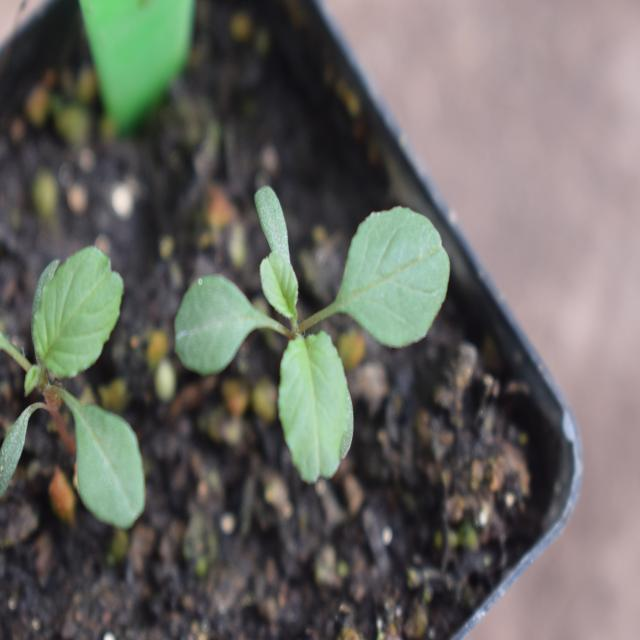pigweed: (156, 172, 446, 462)
